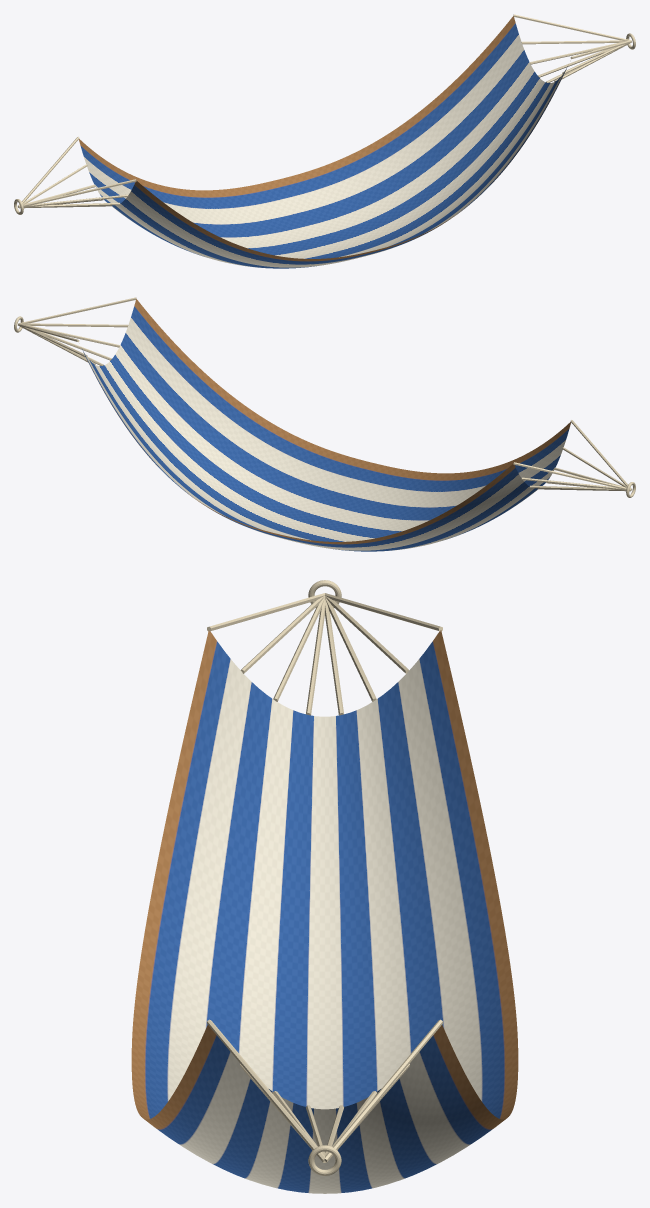
The model's file is hammock_v25_static.glb.
The picture shows the model from 3 angles, top to bottom: view 1: azimuth 30°, elevation 25°; view 2: azimuth 150°, elevation 25°; view 3: azimuth 270°, elevation 25°; orthographic projection. The views are drawn at different scales.
Visible parts, largest first — view 1: hammock_cloth, hammock_ropes; view 2: hammock_cloth, hammock_ropes; view 3: hammock_cloth, hammock_ropes.
Boxes of the visible parts, x1,y1,x2,y2 form: hammock_cloth: [79, 16, 567, 268]; hammock_ropes: [14, 14, 635, 214]; hammock_cloth: [82, 299, 570, 551]; hammock_ropes: [14, 297, 635, 497]; hammock_cloth: [131, 630, 518, 1193]; hammock_ropes: [207, 580, 442, 1175].
Size of the model in its own units: 3.67 by 0.9228 by 1.
2 materials, 1 textured.
